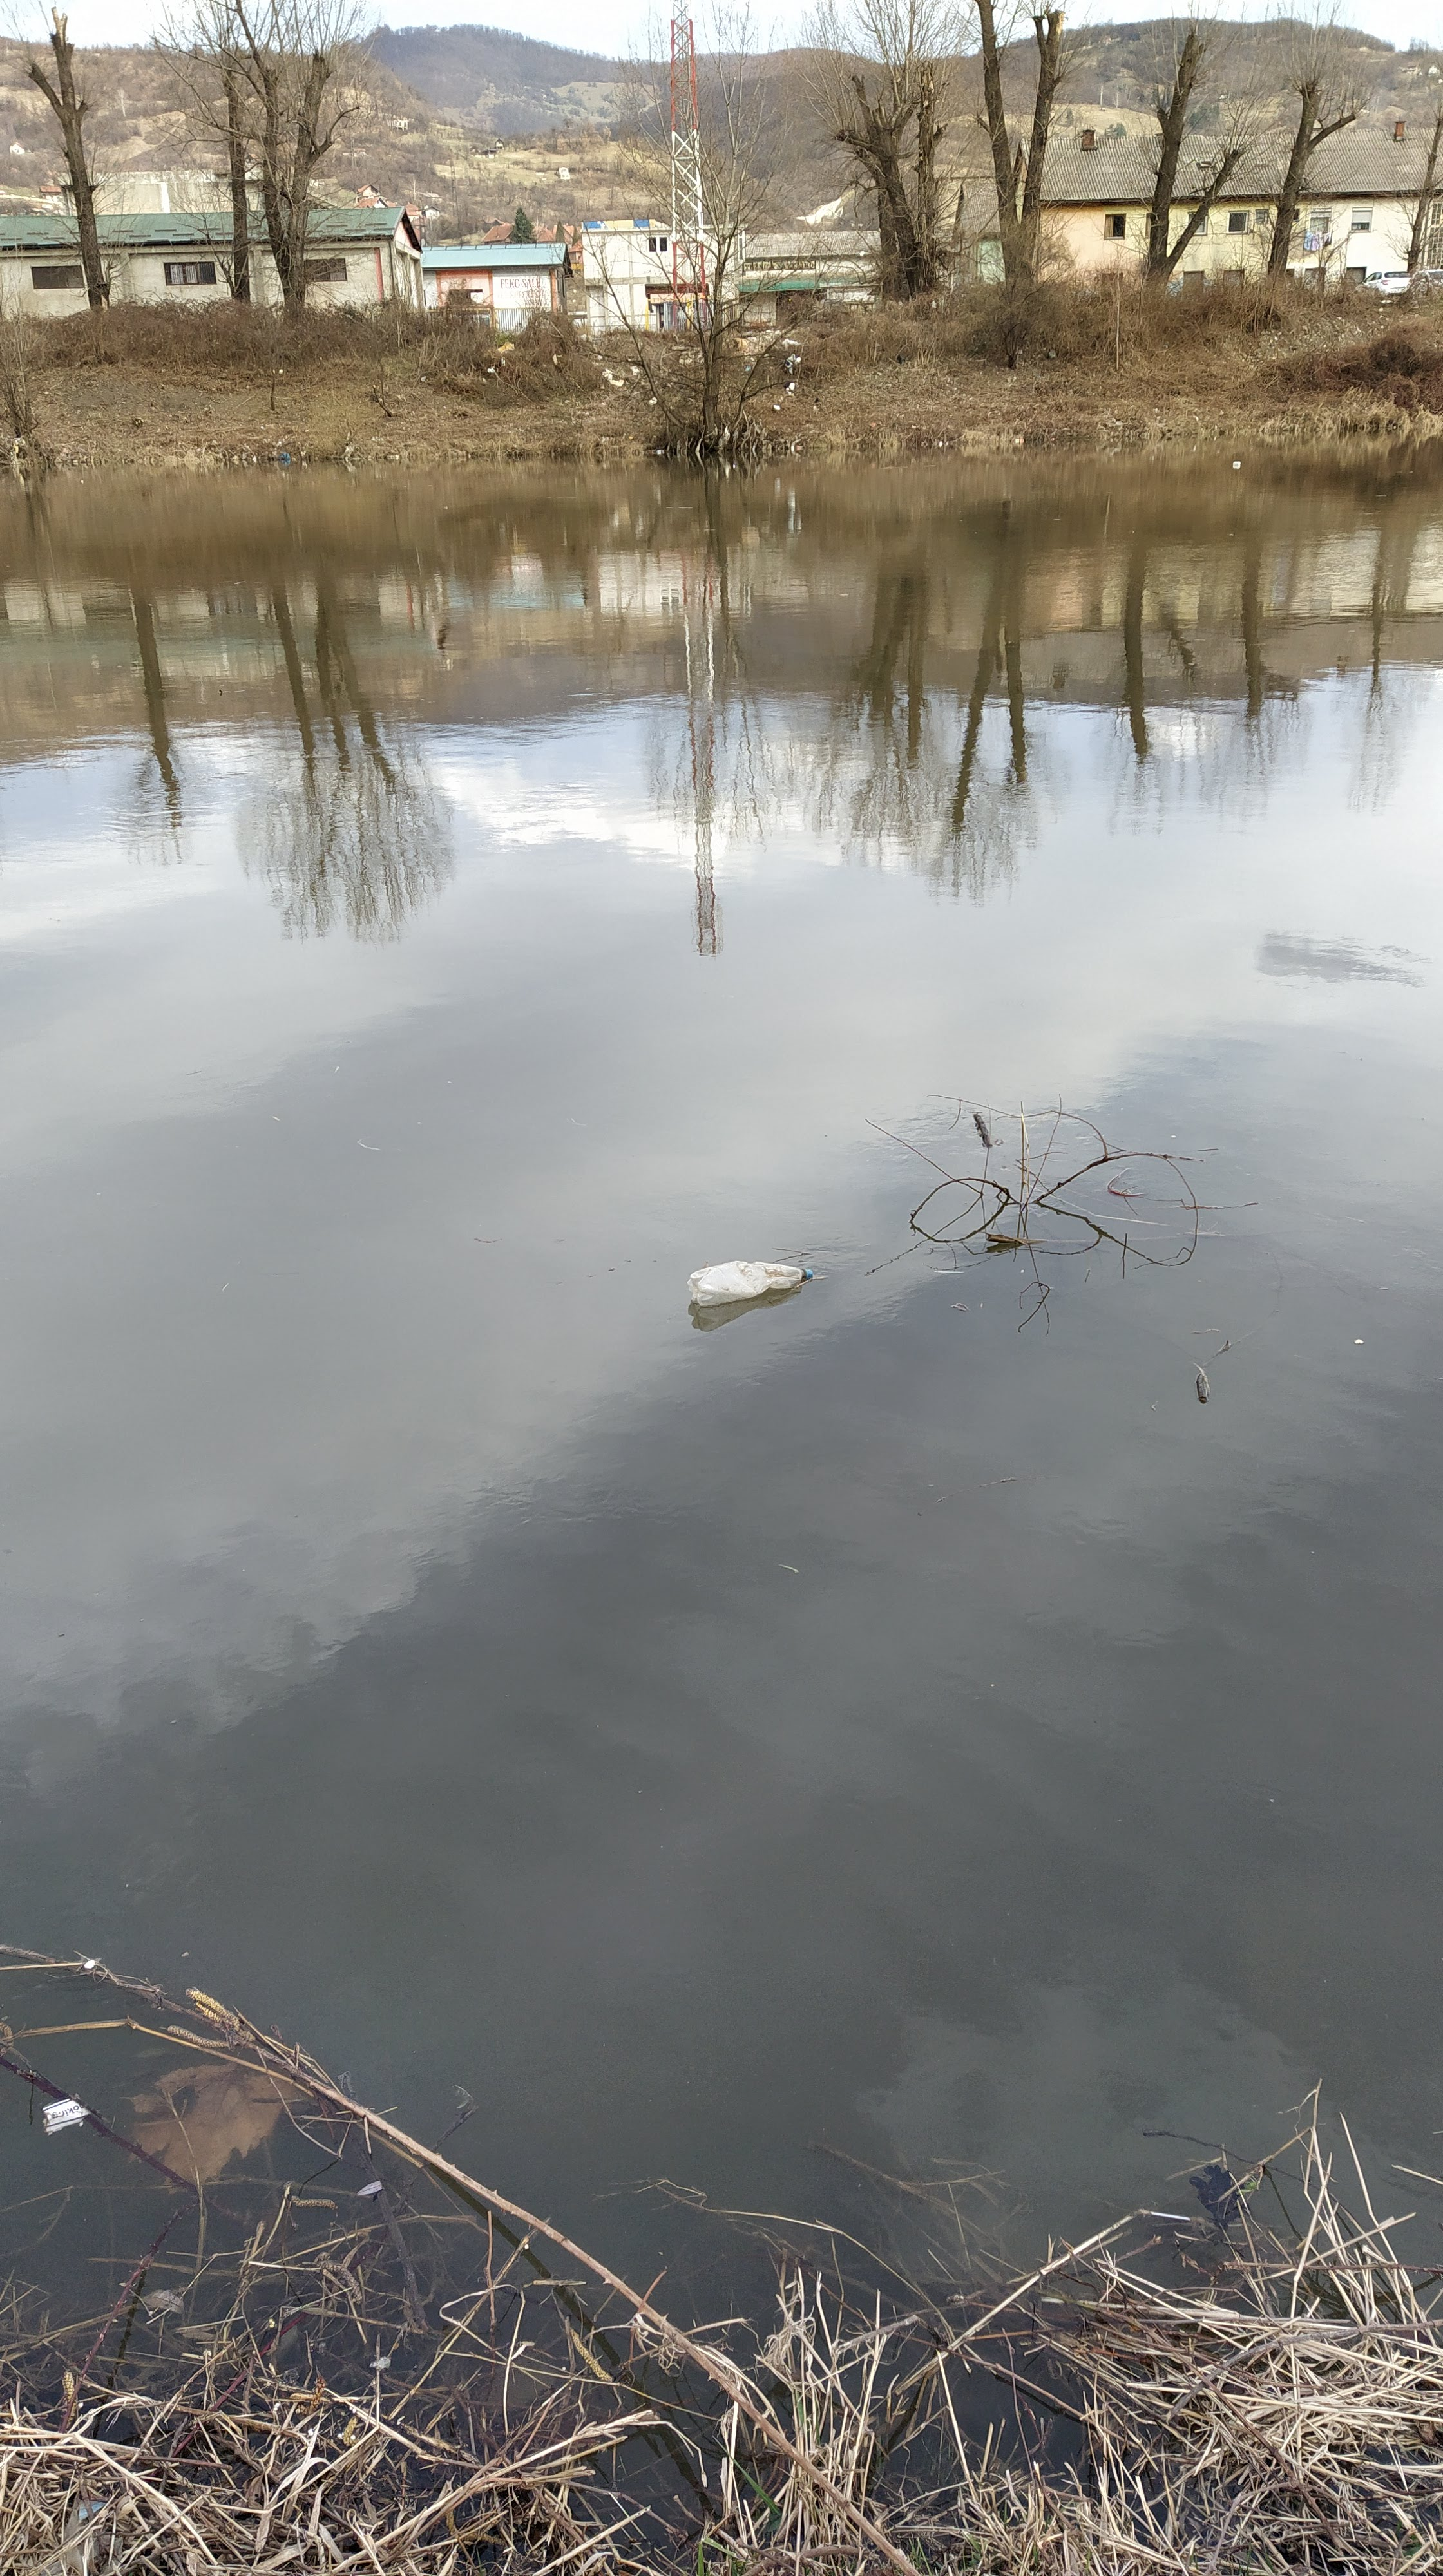Plastic Bottle: (687, 1260, 813, 1307), (1234, 460, 1239, 465)
